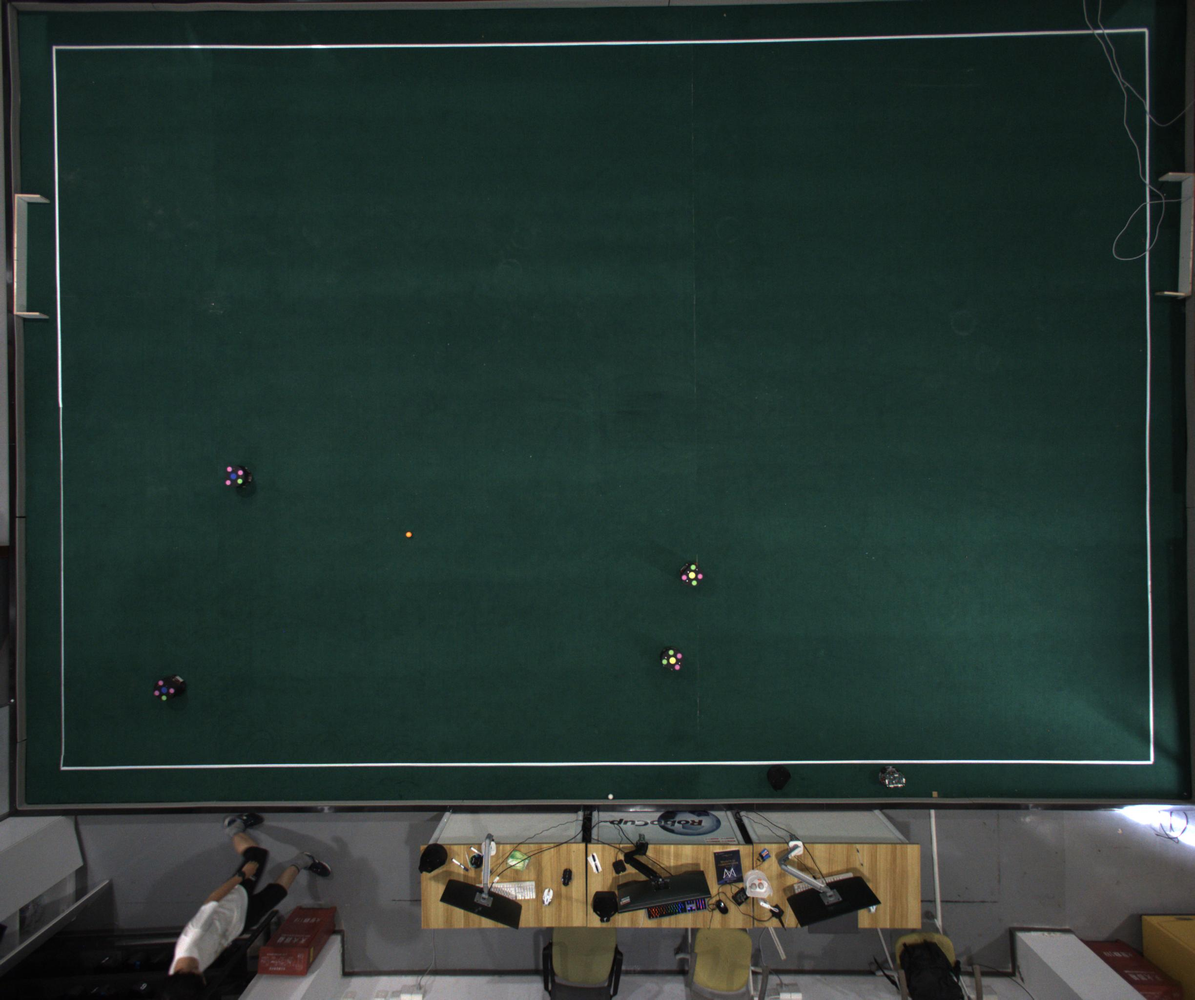ball: (406, 531, 412, 538)
blue_bot: (153, 680, 175, 702), (225, 465, 244, 487)
yellow_bot: (681, 564, 703, 587), (662, 649, 682, 672)
